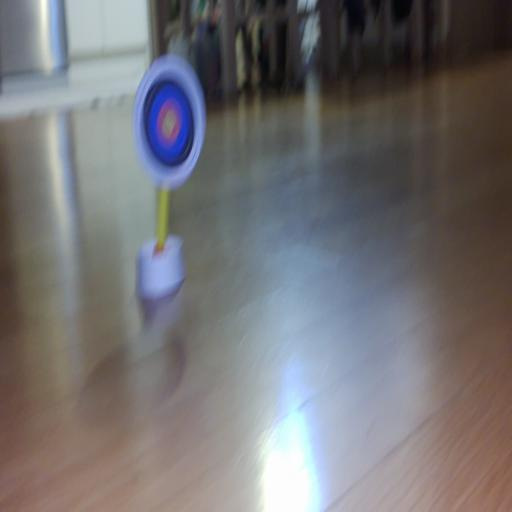target: (133, 55, 205, 189)
